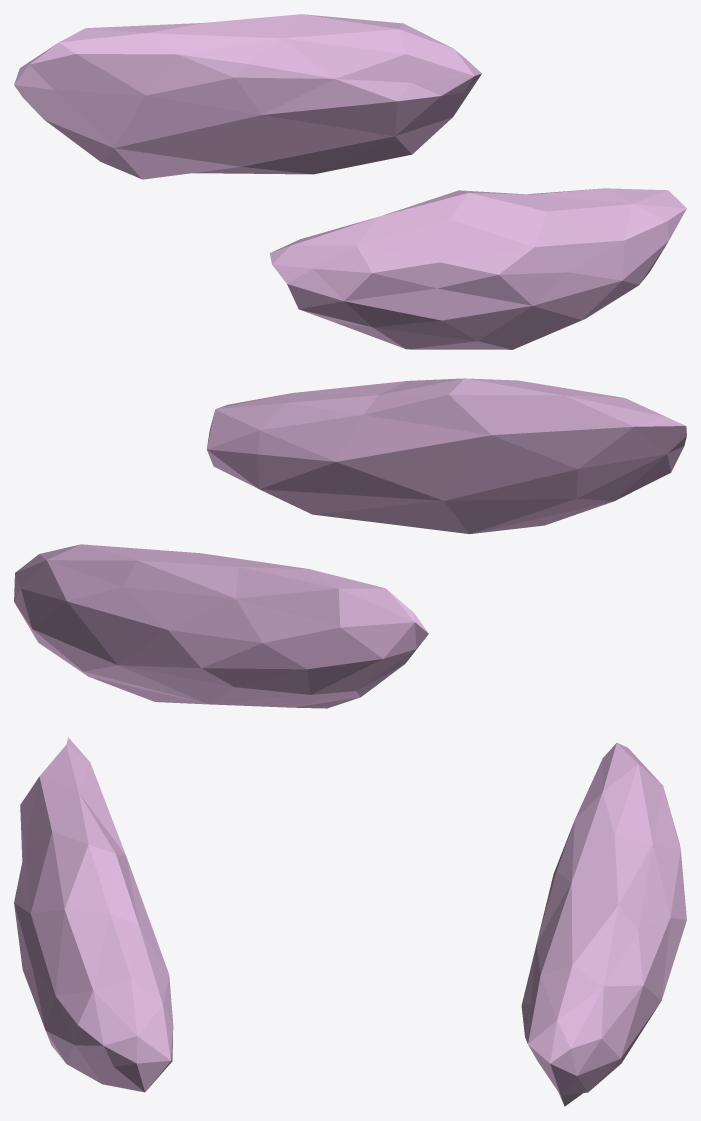
The picture shows the model from 3 angles, top to bottom: view 1: azimuth 30°, elevation 25°; view 2: azimuth 150°, elevation 25°; view 3: azimuth 270°, elevation 25°; orthographic projection. The views are drawn at different scales.
Visible parts, largest first — view 1: 607344858.obj; view 2: 607344858.obj; view 3: 607344858.obj.
Boxes of the visible parts, x1,y1,x2,y2 form: 607344858.obj: (14, 14, 686, 349); 607344858.obj: (14, 378, 686, 708); 607344858.obj: (14, 737, 686, 1106).
Bounding box in the file's own units: 534 × 210 × 656.
